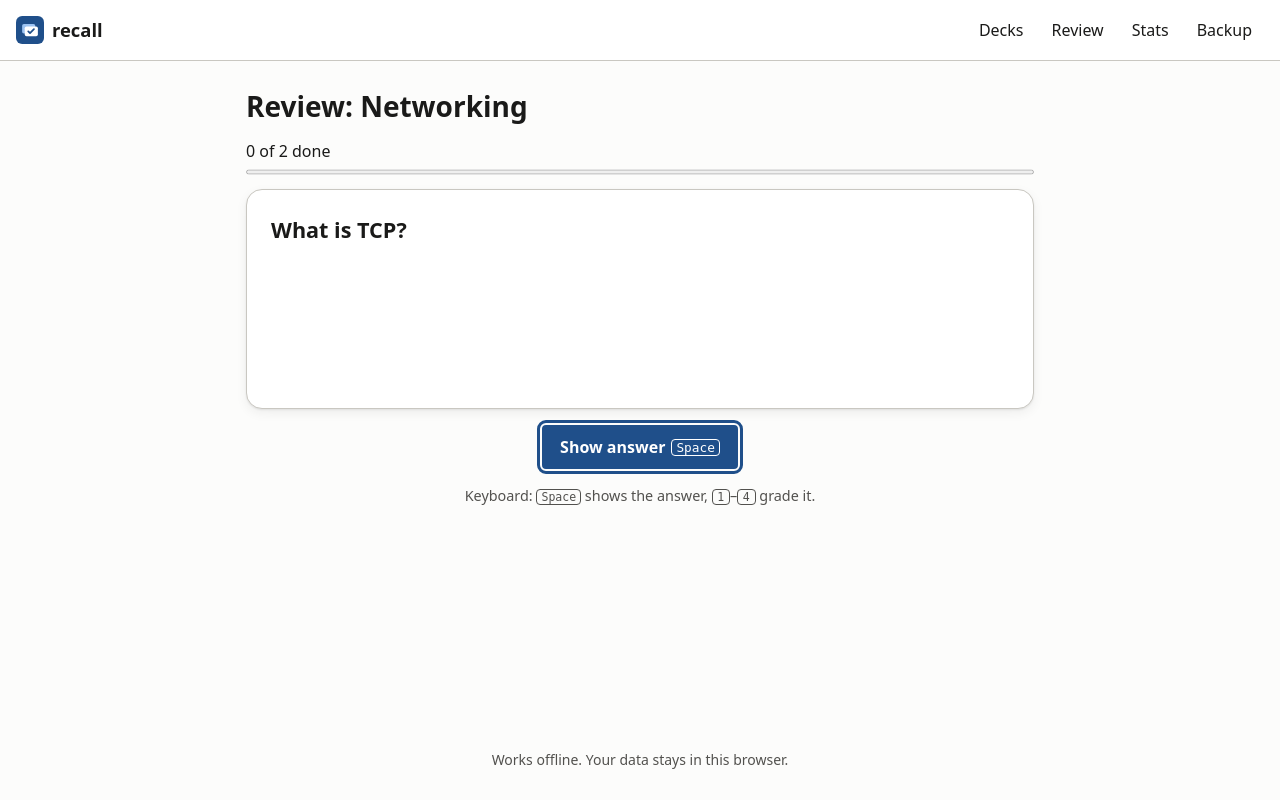
Scenario: ReviewSession (keyboard) › still reveals with Enter or Space when the reveal button or the card has focus
Expected: the heading "Review: Networking" is shown, top-left (246, 87), bottom-right (528, 125)
Press Enter
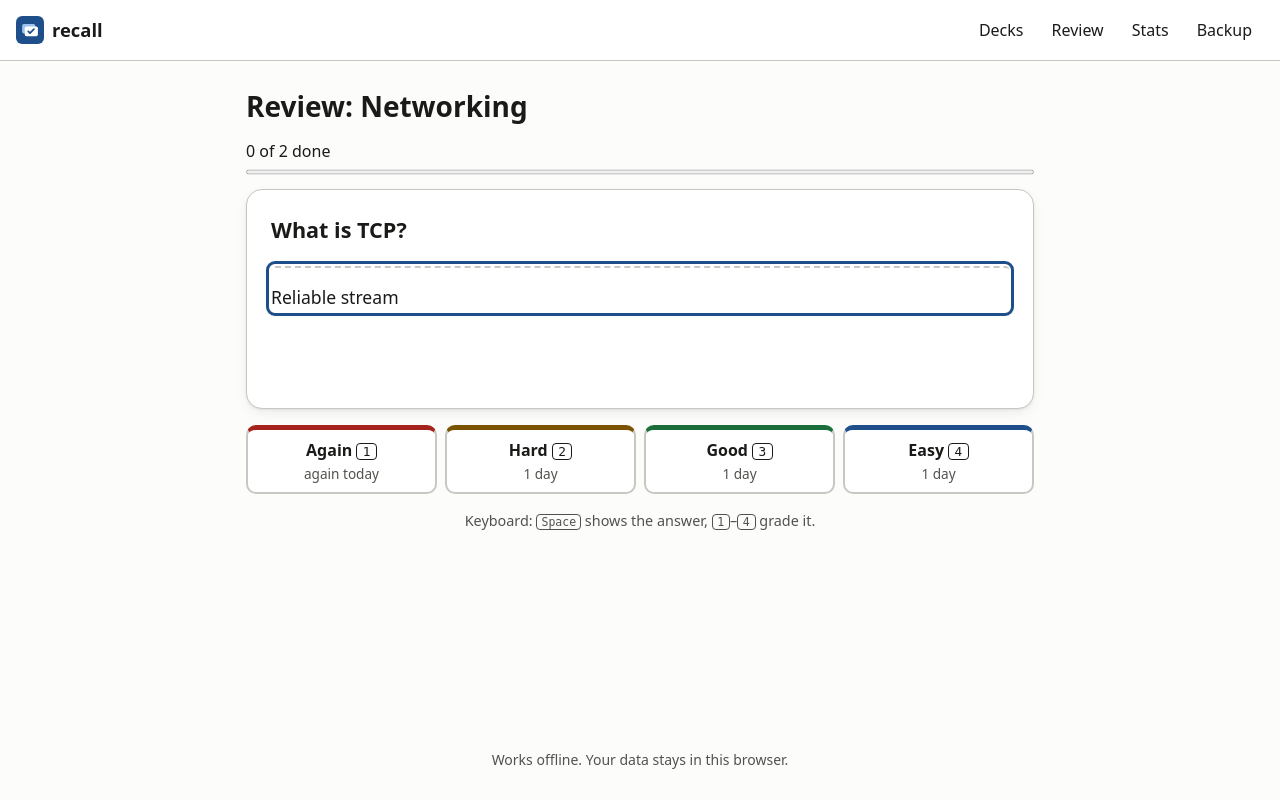
Expected: the element with test id "card-back" is shown, top-left (271, 266), bottom-right (1009, 311)
Type keys "2"
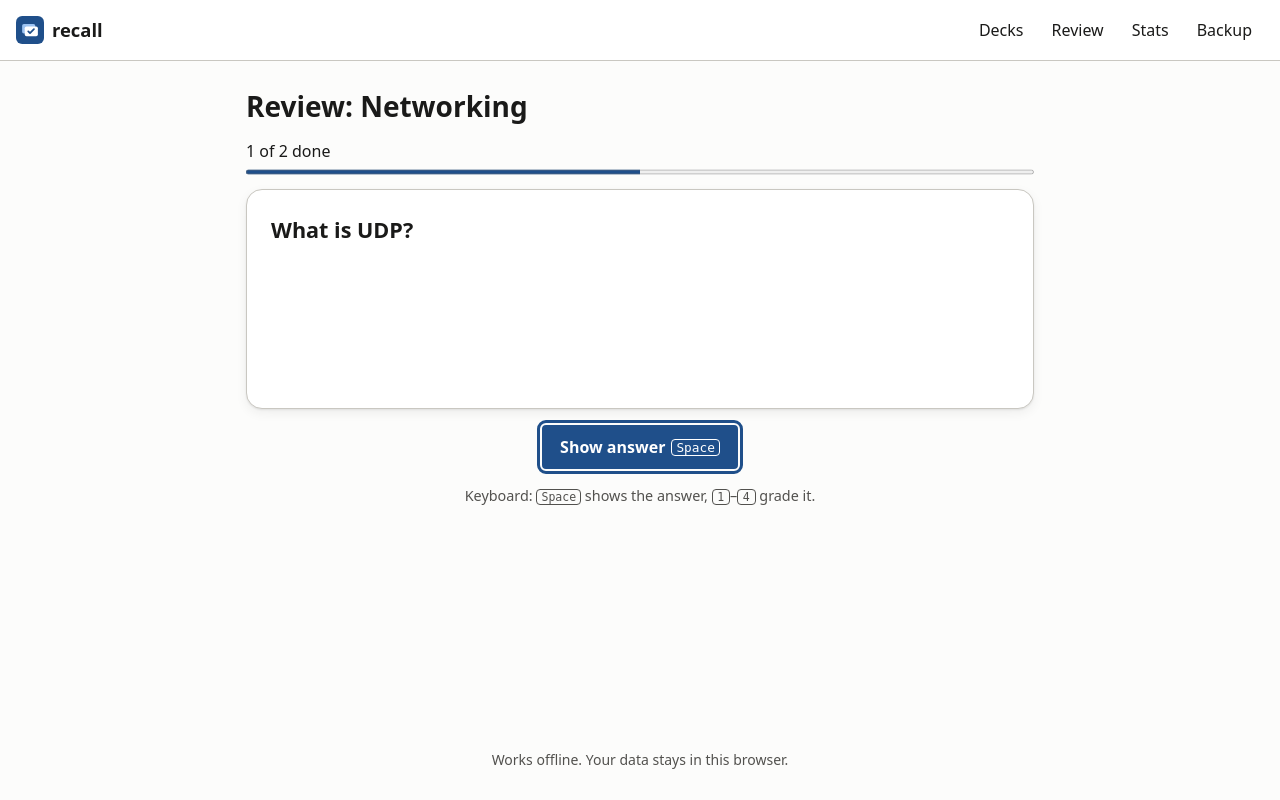
Expected: the text with test id "card-front" reads "What is UDP?"
Click the text with test id "card-front": (342, 230) top-left (271, 215), bottom-right (413, 244)
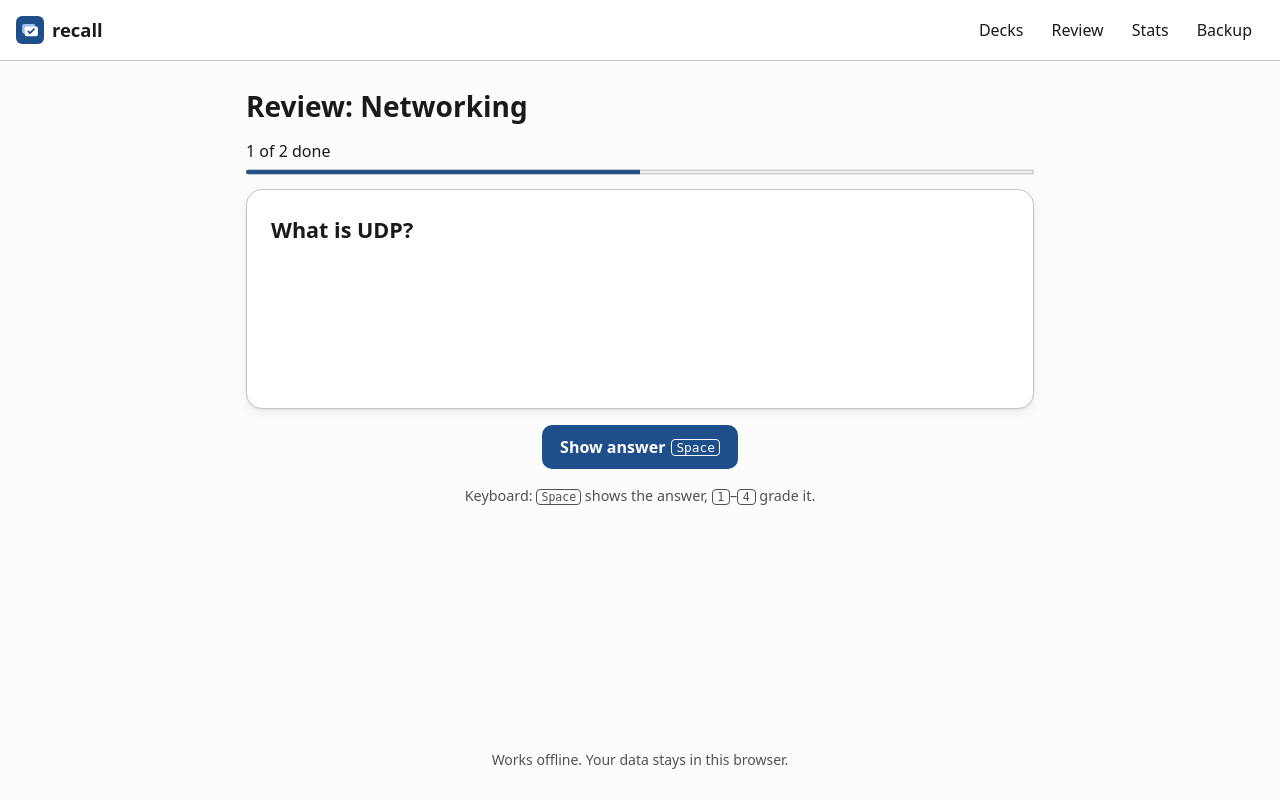
Type keys " "
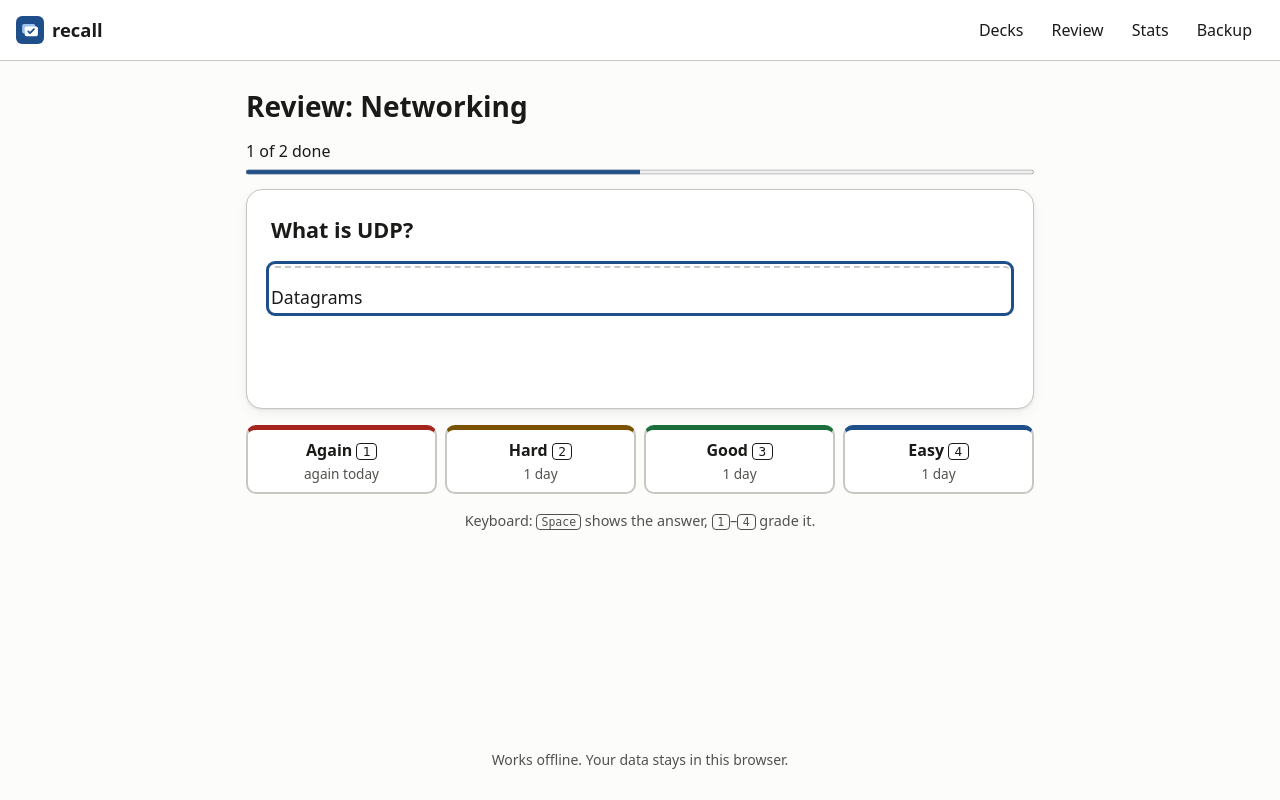
Expected: the element with test id "card-back" reads "Datagrams", top-left (271, 285), bottom-right (362, 309)
